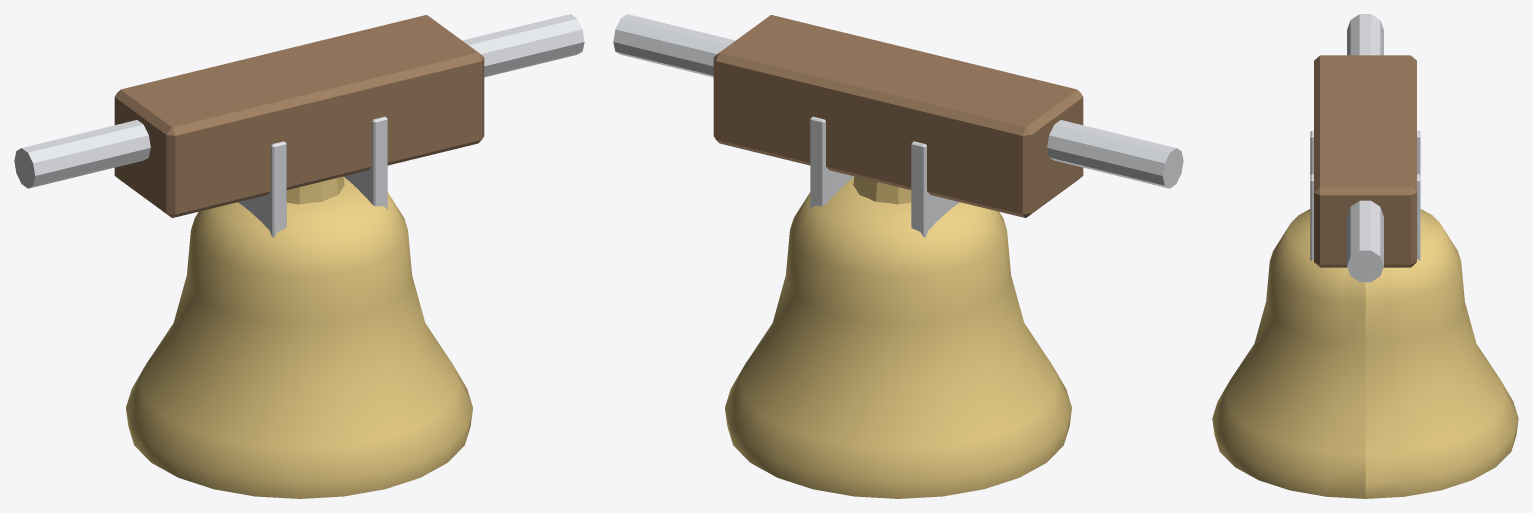
File: chapel-bell.glb
The picture shows the model from 3 angles, left to right: view 1: azimuth 30°, elevation 25°; view 2: azimuth 150°, elevation 25°; view 3: azimuth 270°, elevation 25°; orthographic projection. The views are drawn at different scales.
Visible parts, largest first — view 1: bell/gold, bell/timber, bell/metal; view 2: bell/gold, bell/timber, bell/metal; view 3: bell/gold, bell/timber, bell/metal.
Part boxes in pixels (left/top/right/bottom): bell/gold: left=126, top=176, right=472, bottom=498; bell/timber: left=114, top=15, right=484, bottom=217; bell/metal: left=14, top=14, right=584, bottom=237; bell/gold: left=725, top=176, right=1071, bottom=498; bell/timber: left=713, top=15, right=1083, bottom=217; bell/metal: left=613, top=14, right=1183, bottom=237; bell/gold: left=1212, top=209, right=1518, bottom=498; bell/timber: left=1314, top=55, right=1416, bottom=267; bell/metal: left=1310, top=14, right=1420, bottom=282.
Size of the model in its own units: 0.76 by 0.47 by 0.416.
